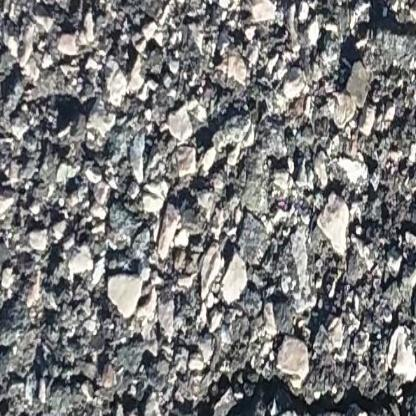Cracks: (172, 360, 416, 416), (347, 0, 416, 85), (0, 381, 155, 416), (409, 218, 416, 273)
